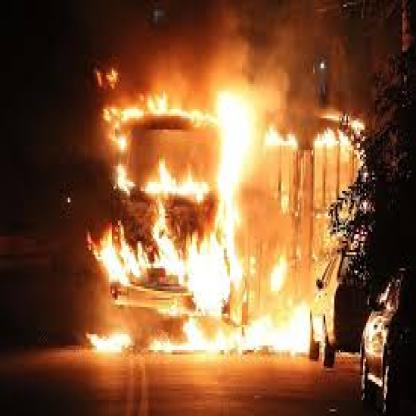fire: (79, 71, 291, 354)
